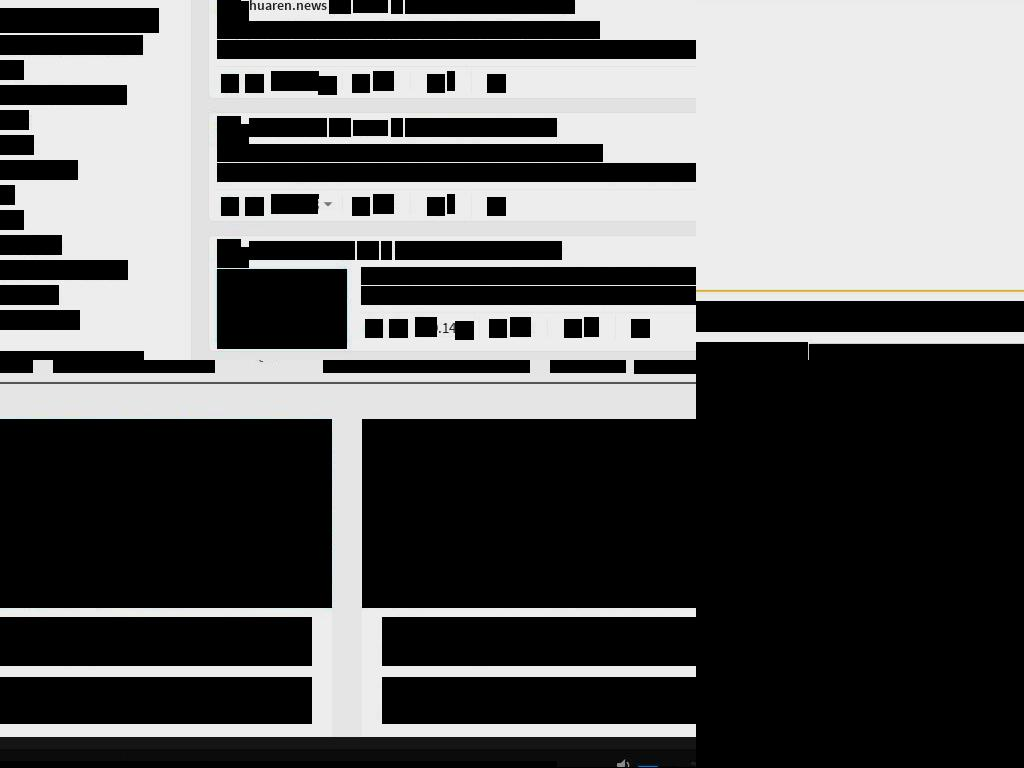button: (362, 419, 696, 608), (0, 419, 332, 608), (831, 662, 1024, 768), (696, 662, 831, 768), (217, 328, 347, 349), (323, 360, 530, 373), (53, 360, 215, 373), (550, 360, 626, 373), (235, 360, 303, 373), (634, 360, 696, 374), (217, 1, 249, 22), (217, 124, 249, 145), (217, 247, 249, 268)
heading: (382, 617, 696, 666), (0, 617, 312, 666), (217, 144, 603, 162), (217, 21, 600, 39), (361, 267, 696, 285), (0, 761, 557, 768)
image: (696, 360, 1024, 590), (362, 419, 696, 608), (0, 419, 332, 608), (856, 687, 1024, 768), (217, 269, 347, 343), (696, 687, 806, 768), (217, 116, 241, 141), (217, 239, 241, 264), (217, 0, 241, 18), (245, 74, 264, 93), (318, 76, 337, 95), (487, 74, 506, 93), (245, 197, 264, 216), (318, 199, 337, 218), (487, 197, 506, 216), (389, 319, 408, 338), (455, 321, 474, 340), (631, 319, 650, 338), (221, 74, 239, 93), (352, 74, 370, 93), (427, 74, 445, 93), (221, 197, 239, 216), (352, 197, 370, 216), (427, 197, 445, 216), (365, 319, 383, 338), (489, 319, 507, 338), (564, 319, 582, 338)
link: (217, 40, 696, 59), (217, 163, 696, 182), (361, 286, 696, 305), (0, 35, 143, 55), (0, 260, 128, 280), (0, 85, 127, 105), (249, 241, 355, 260), (395, 241, 493, 260), (0, 310, 80, 330), (405, 118, 488, 137), (0, 160, 78, 180), (249, 118, 327, 137), (0, 235, 62, 255), (0, 285, 59, 305), (405, 0, 488, 14), (249, 0, 327, 14), (0, 135, 34, 155), (0, 110, 29, 130), (0, 60, 24, 80), (0, 210, 24, 230), (0, 185, 15, 205)
text: (382, 677, 696, 724), (0, 677, 312, 724), (696, 301, 1024, 332), (696, 613, 1016, 639), (0, 8, 159, 33), (809, 344, 1024, 360), (696, 342, 808, 360), (0, 351, 144, 360), (497, 118, 557, 137), (503, 241, 562, 260), (497, 0, 575, 14), (353, 120, 388, 136), (382, 574, 414, 590), (353, 0, 388, 13), (279, 71, 301, 91), (279, 194, 301, 214), (373, 71, 394, 91), (373, 194, 394, 214), (510, 317, 531, 337), (329, 118, 351, 137), (357, 241, 379, 260), (300, 71, 319, 91), (300, 194, 319, 214), (437, 317, 456, 337), (329, 0, 351, 14), (423, 317, 438, 337), (584, 317, 599, 337), (654, 360, 696, 366), (391, 118, 403, 137), (487, 118, 498, 137), (381, 241, 392, 260), (271, 71, 281, 91), (271, 194, 281, 214), (415, 317, 425, 337), (493, 241, 503, 260), (391, 0, 403, 14), (447, 71, 455, 91), (447, 194, 455, 214), (487, 0, 498, 14), (0, 574, 7, 590)
